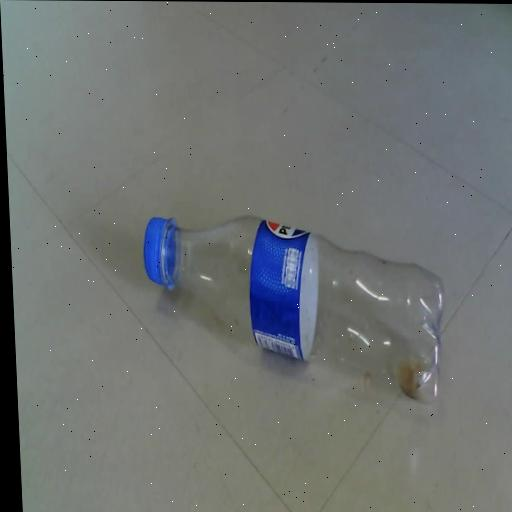bottle: (129, 181, 459, 432)
